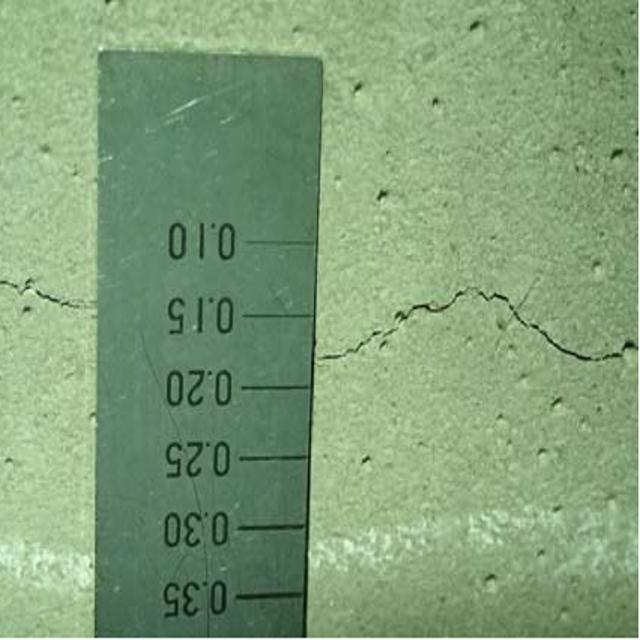crack: (316, 258, 630, 396), (0, 251, 126, 353)
